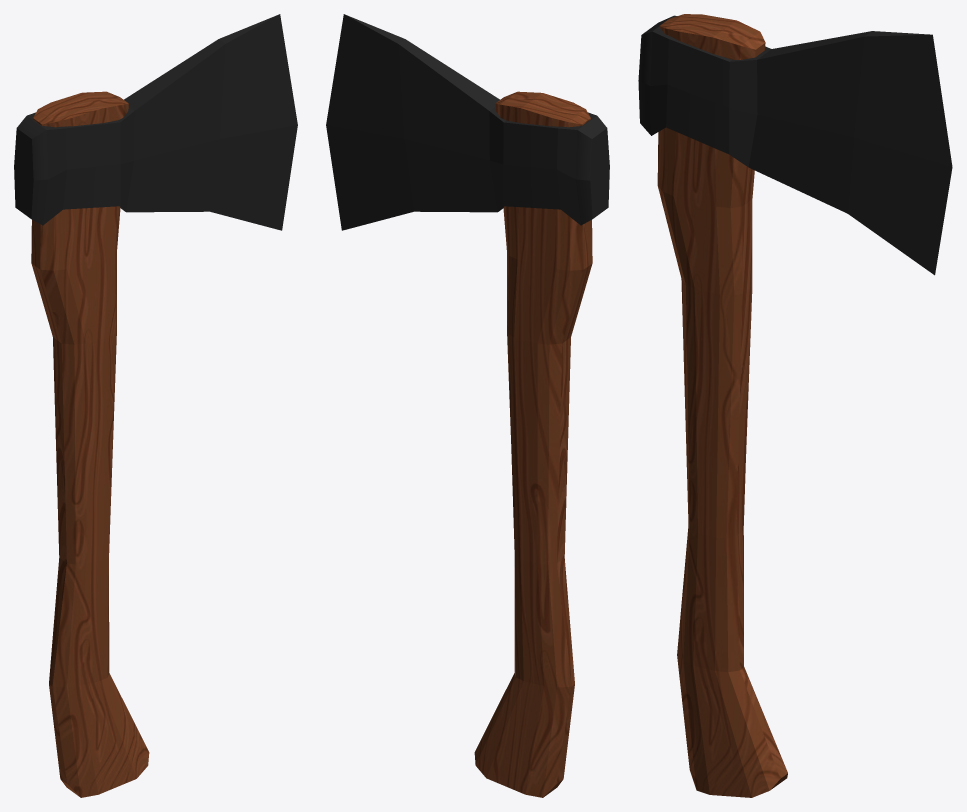
Rendered from ARC0710039.fbx.
The picture shows the model from 3 angles, left to right: view 1: azimuth 30°, elevation 25°; view 2: azimuth 150°, elevation 25°; view 3: azimuth 330°, elevation 25°; orthographic projection. The views are drawn at different scales.
Visible parts, largest first — view 1: smARC0710039; view 2: smARC0710039; view 3: smARC0710039.
Part boxes in pixels (box(x1,y1,x2,y2)): smARC0710039: box(14, 14, 297, 797); smARC0710039: box(326, 14, 609, 797); smARC0710039: box(638, 14, 952, 797).
Bounding box in the file's own units: 27.74 × 70.33 × 4.69.
Materials: 1 (1 with a texture image).
